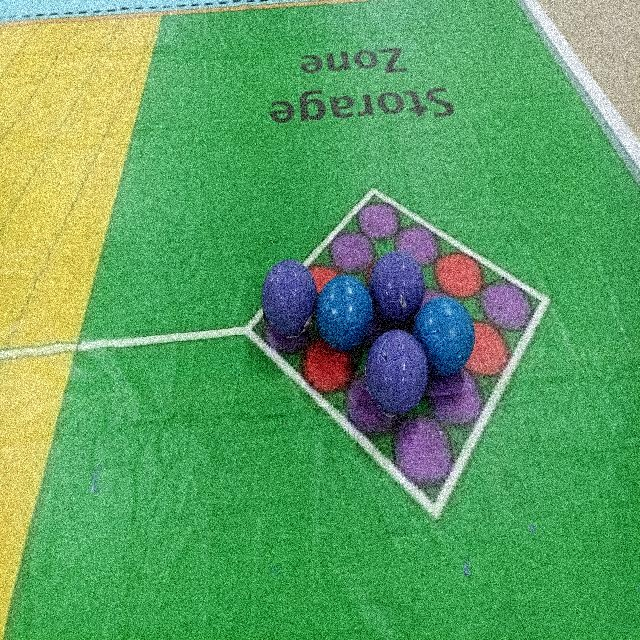blue_ball: (418, 289, 482, 379), (316, 269, 374, 352)
purple_ball: (363, 327, 428, 416), (259, 251, 314, 340), (371, 243, 427, 321)
